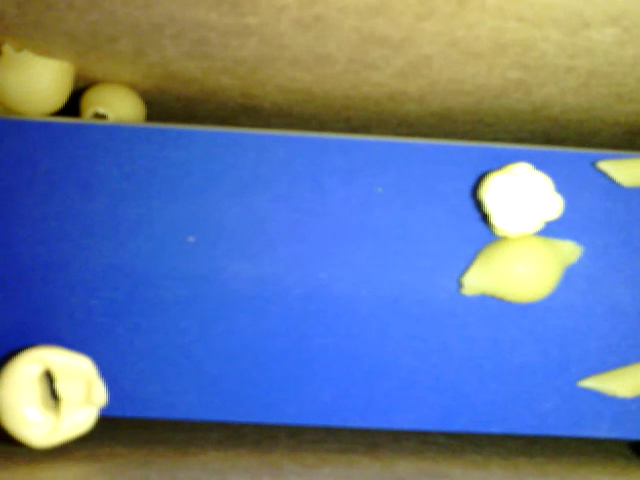penne: (577, 361, 639, 398), (595, 158, 639, 187)
shell: (459, 236, 581, 303), (1, 43, 75, 114), (80, 83, 143, 123)
tortellini: (1, 346, 108, 447)
